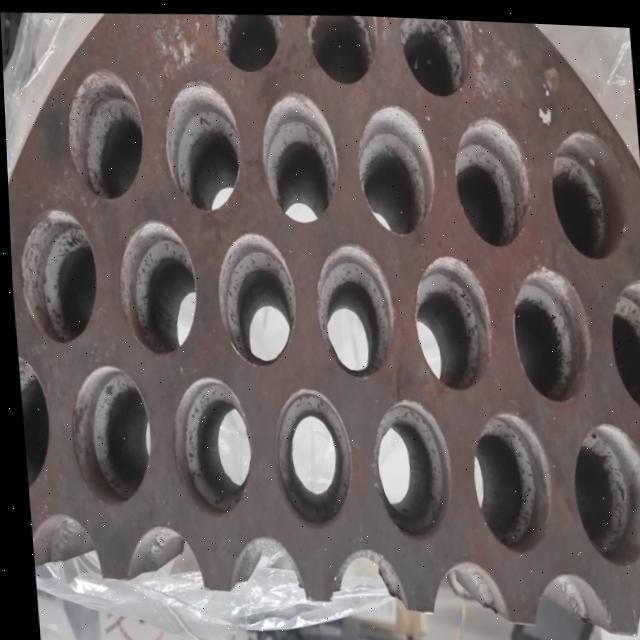Hole: (464, 403, 551, 551), (163, 371, 251, 517), (364, 392, 451, 539), (265, 381, 351, 528), (62, 361, 149, 506), (307, 236, 395, 378), (111, 215, 198, 358), (505, 257, 591, 401), (406, 246, 492, 389), (210, 226, 296, 367), (12, 206, 98, 346), (350, 96, 436, 234), (255, 85, 341, 223), (60, 63, 145, 202), (544, 121, 628, 260), (158, 74, 242, 212), (448, 109, 532, 245), (565, 413, 640, 564), (396, 14, 474, 97), (304, 11, 380, 84), (602, 272, 640, 412), (13, 353, 50, 495), (208, 8, 285, 74)
